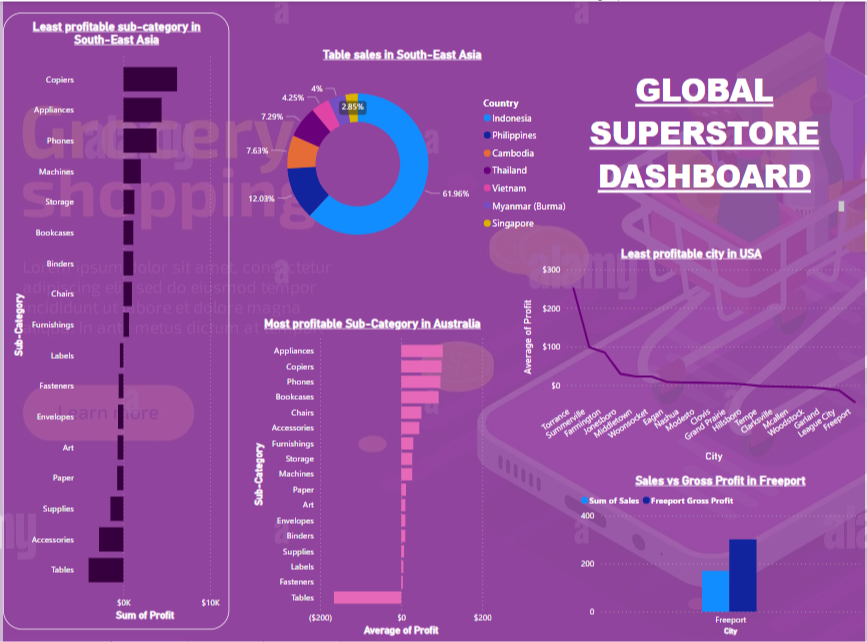

The page's visual inventory and layout, read from the dashboard file:
{"tool":"powerbi","page":{"name":"Page 1","canvas":[1241,922],"ordinal":0},"visuals":[{"type":"barChart","title":"Least profitable sub-category in South-East Asia","fields":{"Category":["GlobalSuperstore - Capstone xlsx - Orders.Sub-Category"],"Y":["Sum(GlobalSuperstore - Capstone xlsx - Orders.Profit)"]},"box":[0,15.8,325.6,888.9],"z":0},{"type":"donutChart","title":"Table sales in South-East Asia","fields":{"Category":["GlobalSuperstore - Capstone xlsx - Orders.Country"],"Series":["GlobalSuperstore - Capstone xlsx - Orders.Sub-Category"],"Y":["Sum(GlobalSuperstore - Capstone xlsx - Orders.Sales)"]},"box":[325.6,66,499.2,317],"z":1000},{"type":"lineChart","title":"Least profitable city in USA","fields":{"Category":["GlobalSuperstore - Capstone xlsx - Orders.City"],"Y":["Avg(GlobalSuperstore - Capstone xlsx - Orders.Profit)"]},"box":[741.6,352.9,499.2,315.6],"z":2000},{"type":"barChart","title":"Most profitable Sub-Category in Australia","fields":{"Category":["GlobalSuperstore - Capstone xlsx - Orders.Sub-Category"],"Y":["Avg(GlobalSuperstore - Capstone xlsx - Orders.Profit)"]},"box":[355.7,453.3,352.9,464.7],"z":3000},{"type":"textbox","title":"GLOBAL SUPERSTORE DASHBOARD","box":[803.2,96.1,413.1,215.2],"z":4000},{"type":"clusteredColumnChart","title":"Sales vs Gross Profit in Freeport","fields":{"Category":["GlobalSuperstore - Capstone xlsx - Orders.City"],"Y":["Sum(GlobalSuperstore - Capstone xlsx - Orders.Sales)","GlobalSuperstore - Capstone xlsx - Orders.Freeport Gross Profit"]},"box":[827.6,679.9,413.1,238.1],"z":5000}]}

Visuals, with their boxes in screenshot pixels (x1, y1, x2, y2), scaled from the page's 1241x922 canvas onto the 867x642 screenshot:
"Least profitable sub-category in South-East Asia" barChart: {"left": 0, "top": 11, "right": 227, "bottom": 630}
"Table sales in South-East Asia" donutChart: {"left": 227, "top": 46, "right": 576, "bottom": 267}
"Least profitable city in USA" lineChart: {"left": 518, "top": 246, "right": 866, "bottom": 465}
"Most profitable Sub-Category in Australia" barChart: {"left": 249, "top": 316, "right": 495, "bottom": 639}
"GLOBAL SUPERSTORE DASHBOARD" textbox: {"left": 561, "top": 67, "right": 850, "bottom": 217}
"Sales vs Gross Profit in Freeport" clusteredColumnChart: {"left": 578, "top": 473, "right": 866, "bottom": 639}
